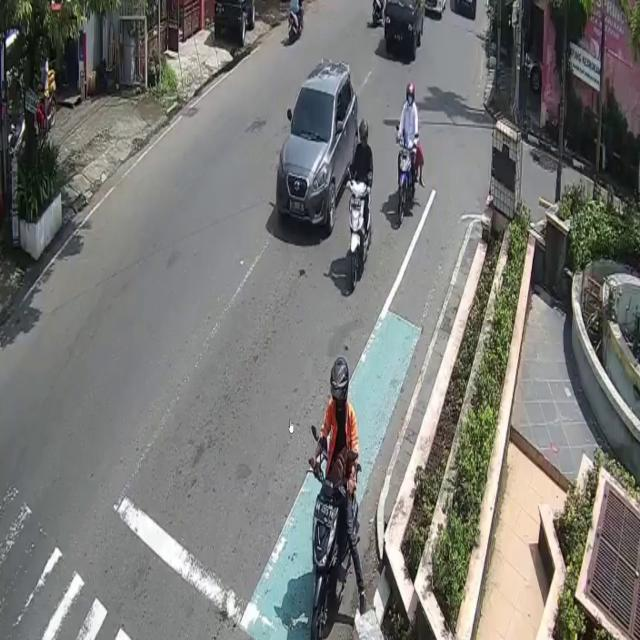bus: (309, 451, 361, 640), (343, 169, 372, 285), (397, 133, 418, 225)
motorcycle: (276, 58, 359, 236)
